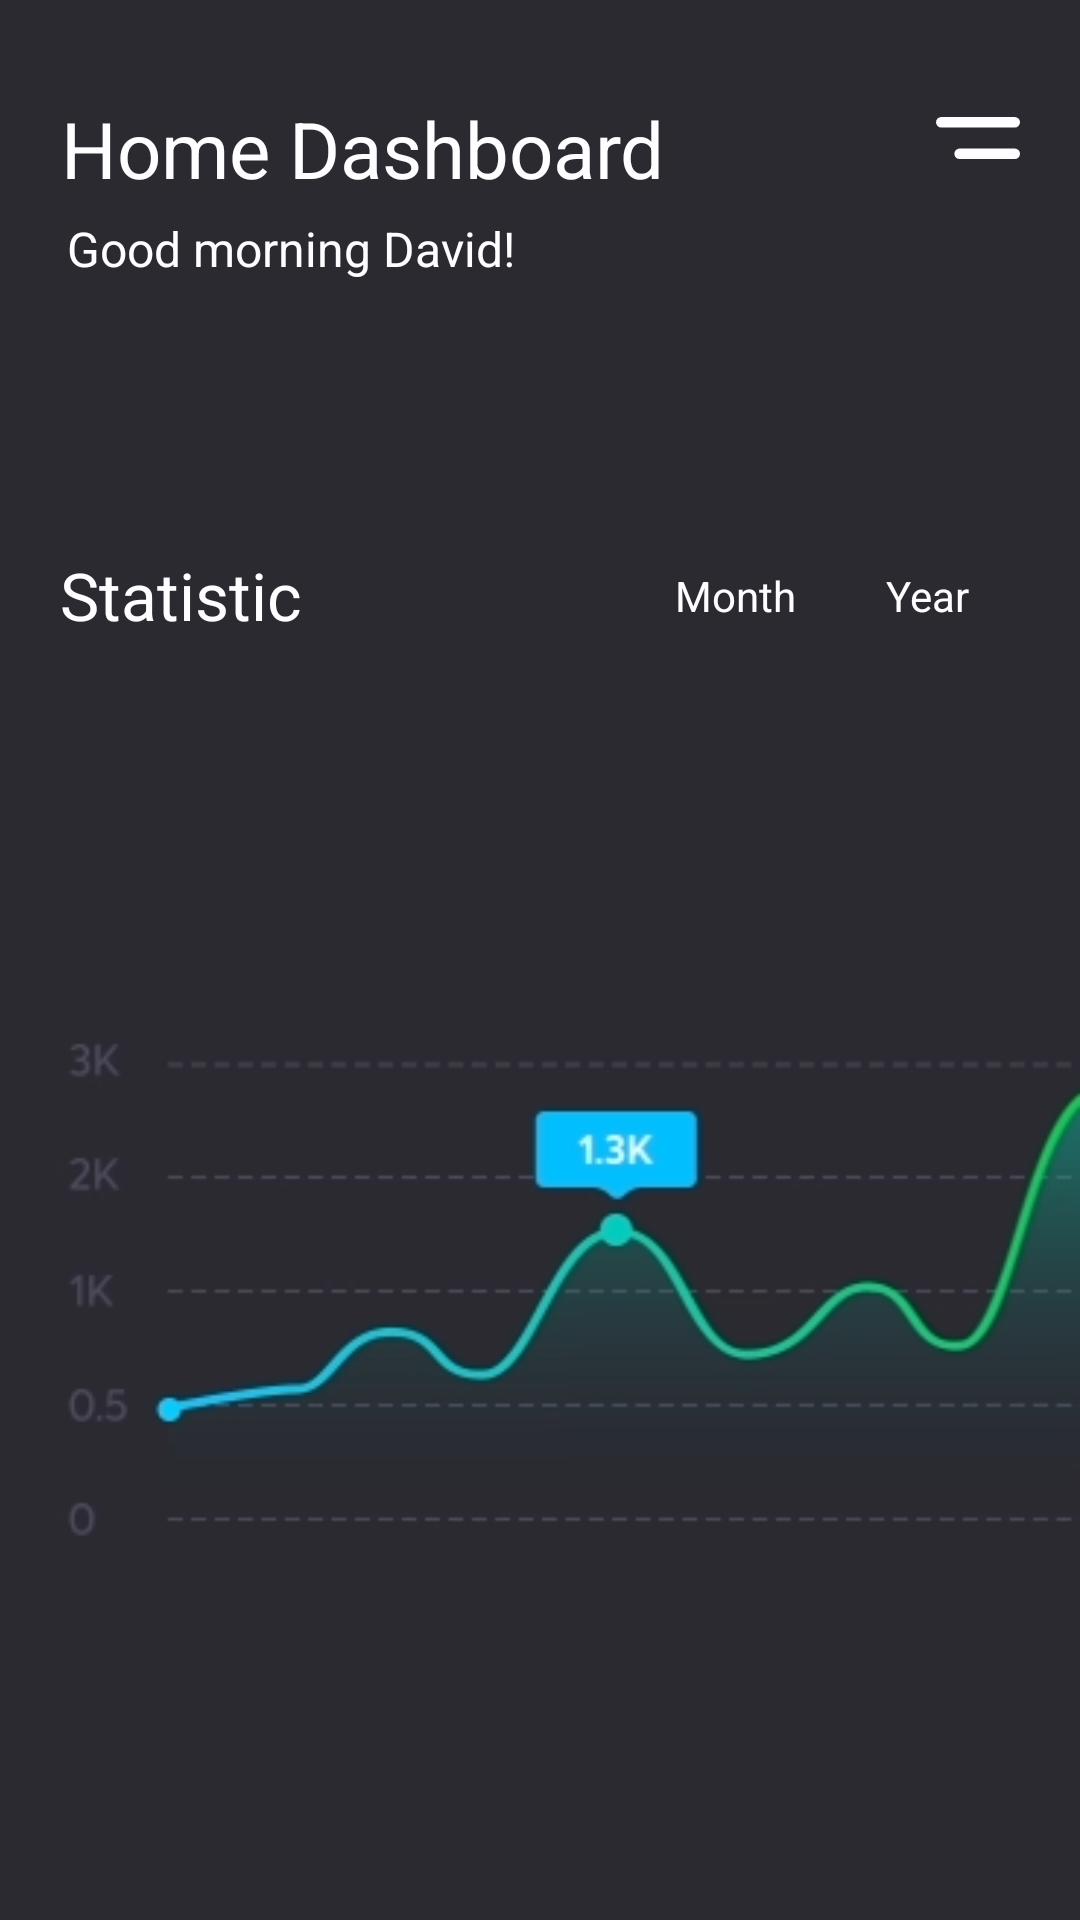

Where to tap for icons on this 1080w x 1920h app screen, as (x=x, y=y):
menu: (x=978, y=138)
